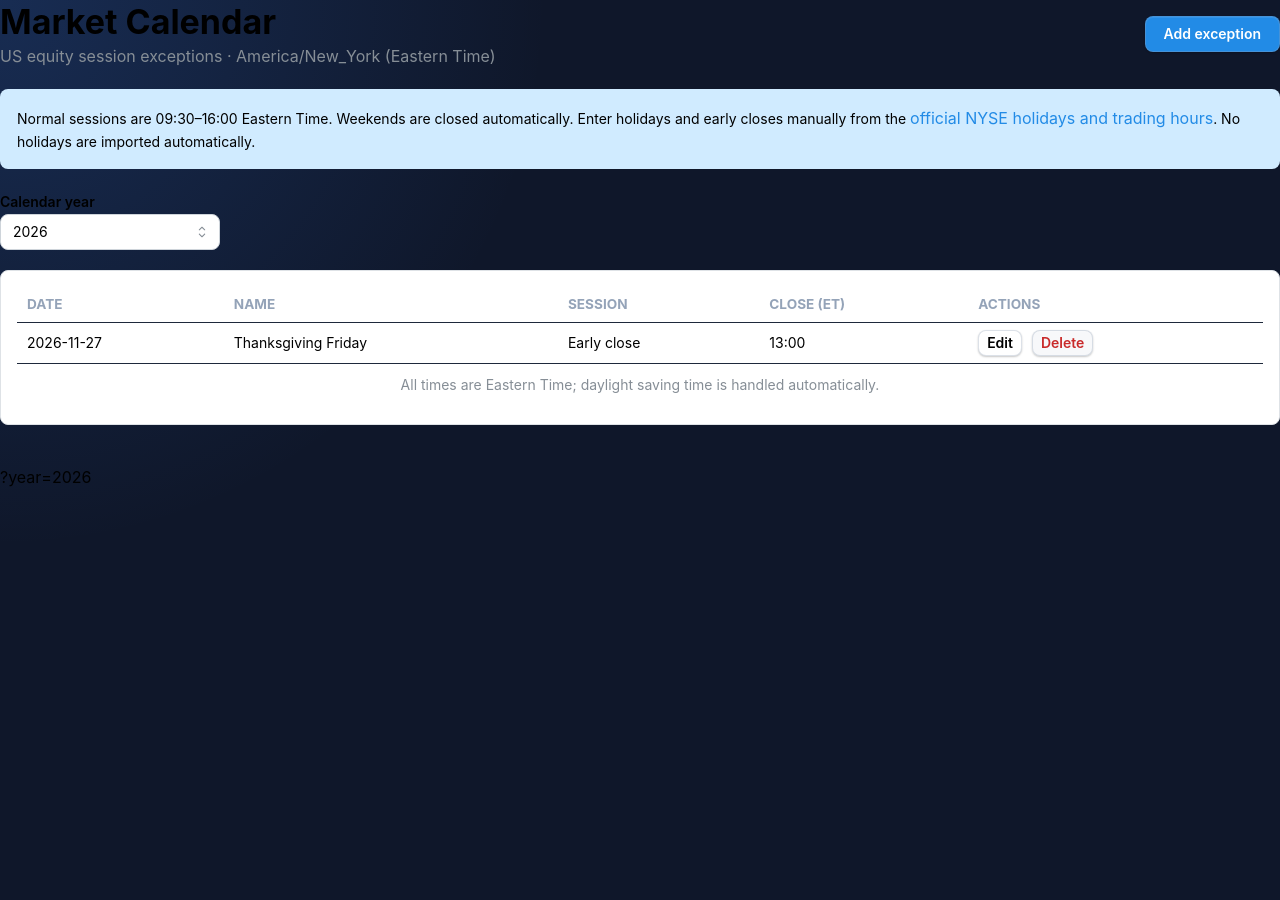
Scenario: market calendar operator UI › keeps failed form edits visible
Click the button with aria-label "Edit Thanksgiving Friday" at (1000, 343), box left=978, top=330, right=1022, bottom=356
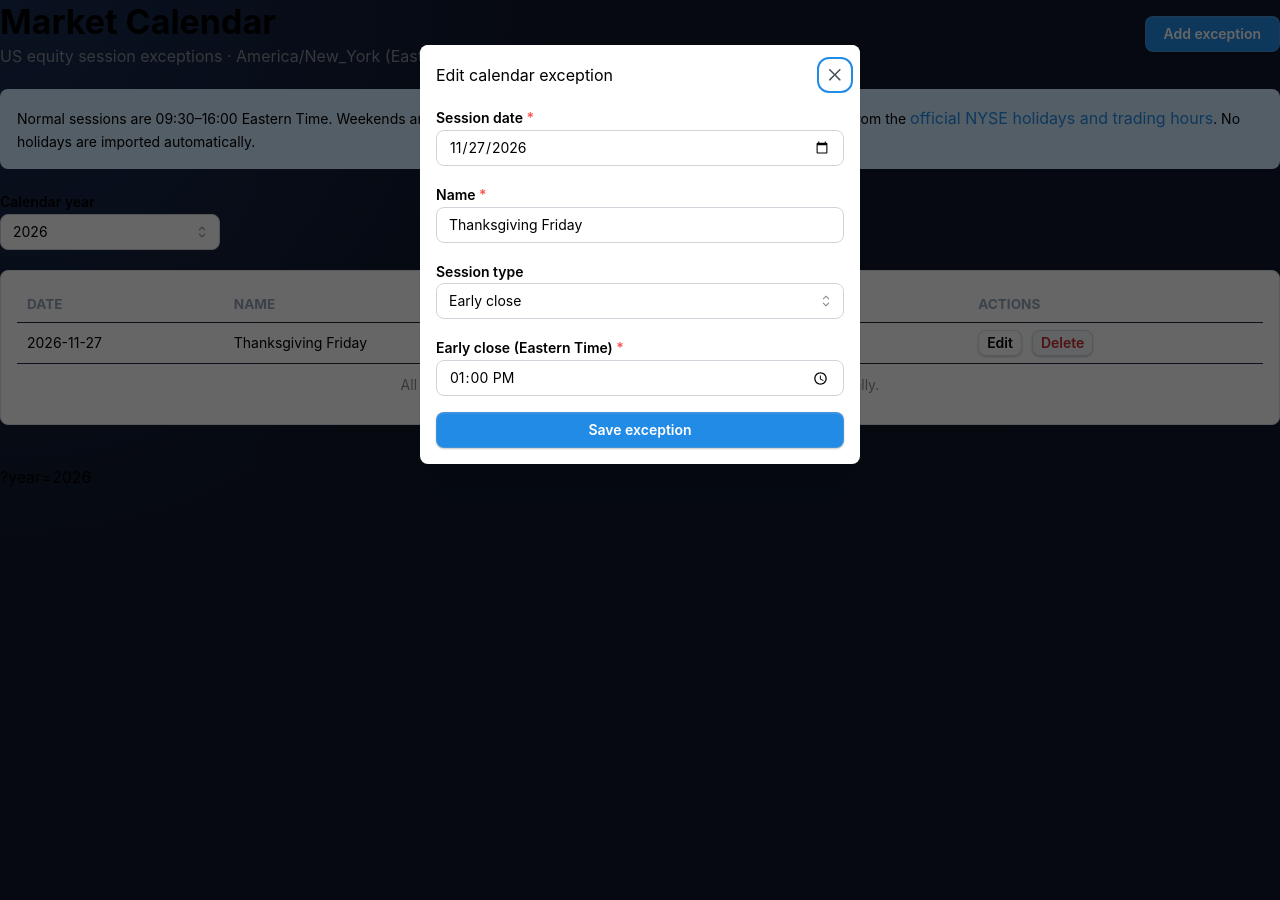
Click the button "Save exception" at (640, 430), box left=436, top=412, right=844, bottom=448
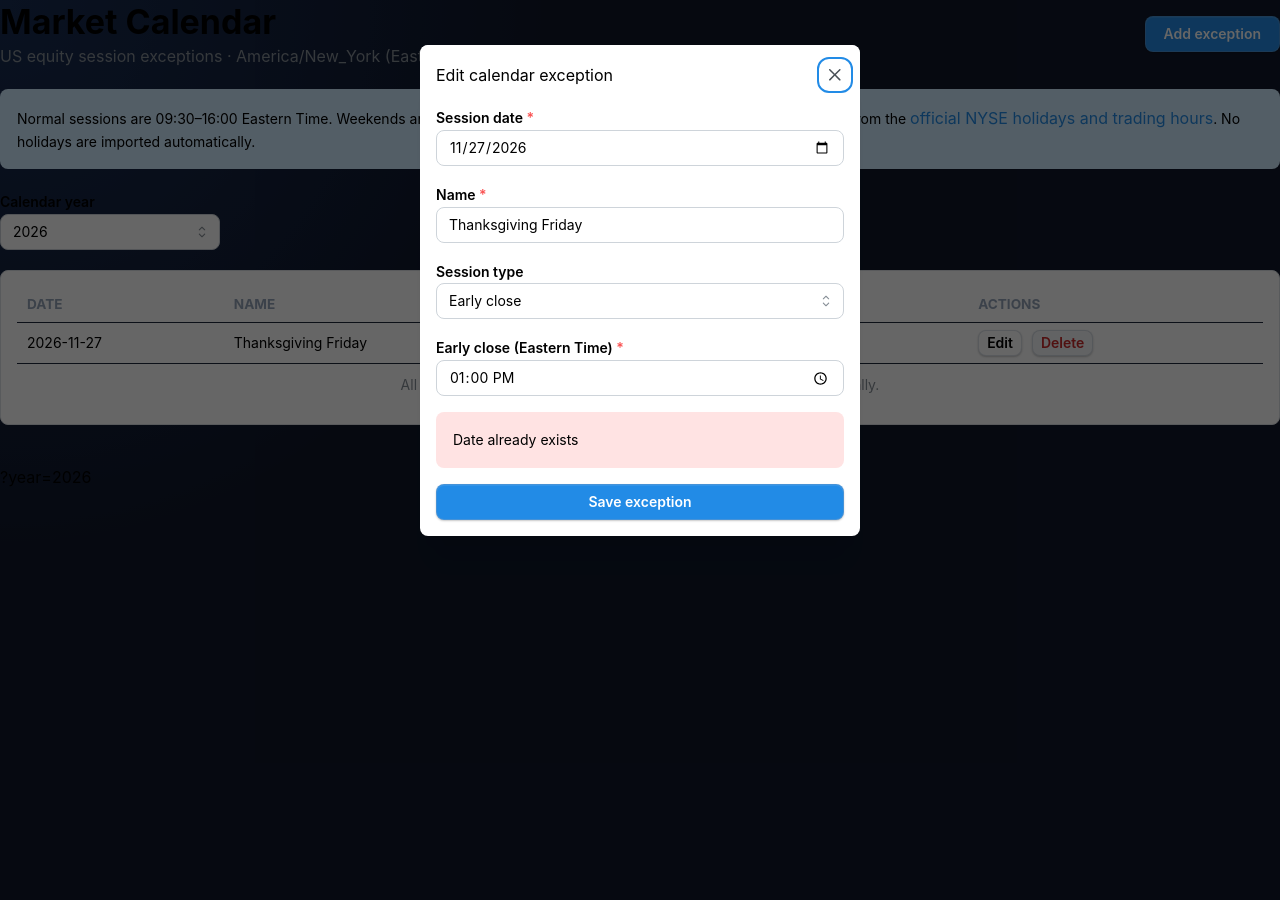
Expected: the field labelled "Name *" is shown, left=436, top=207, right=844, bottom=243
Expected: the text "Date already exists" is shown, left=453, top=431, right=578, bottom=448
